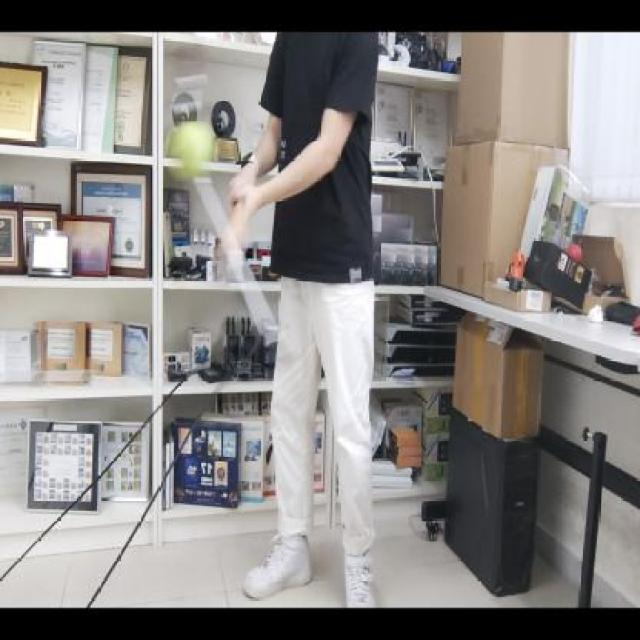baseball: (166, 115, 214, 177)
